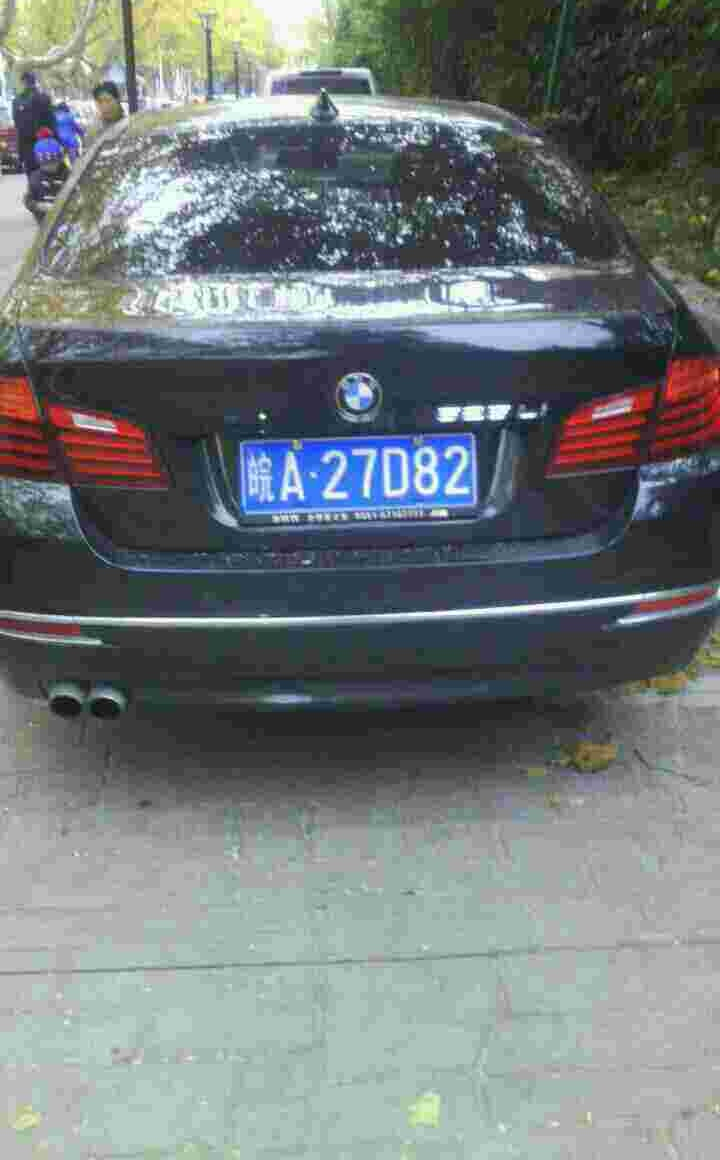plate: (242, 428, 483, 518)
